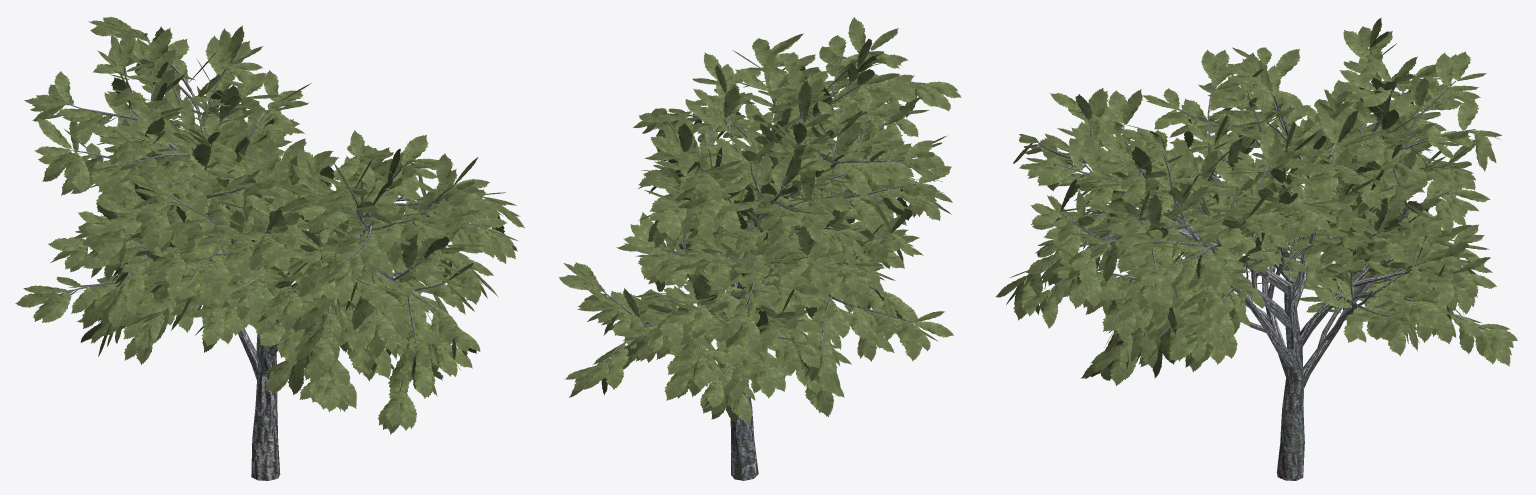
Rendered from castagno_b_lod.gltf.
3 views of the same model, side by side, from view 1: azimuth 30°, elevation 25°; view 2: azimuth 150°, elevation 25°; view 3: azimuth 270°, elevation 25° (orthographic). The views are drawn at different scales.
Parts seen in each view (by area): view 1: castagno_b_lod_foglie, castagno_b_lod_rami; view 2: castagno_b_lod_foglie, castagno_b_lod_rami; view 3: castagno_b_lod_foglie, castagno_b_lod_rami.
Boxes of the visible parts, x1,y1,x2,y2 form: castagno_b_lod_foglie: [15, 16, 524, 434]; castagno_b_lod_rami: [57, 28, 491, 480]; castagno_b_lod_foglie: [559, 17, 961, 423]; castagno_b_lod_rami: [597, 51, 924, 480]; castagno_b_lod_foglie: [995, 17, 1517, 385]; castagno_b_lod_rami: [1027, 48, 1484, 480].
Size of the model in its own units: 5.94 by 5.92 by 6.9.
2 materials, 2 textured.
